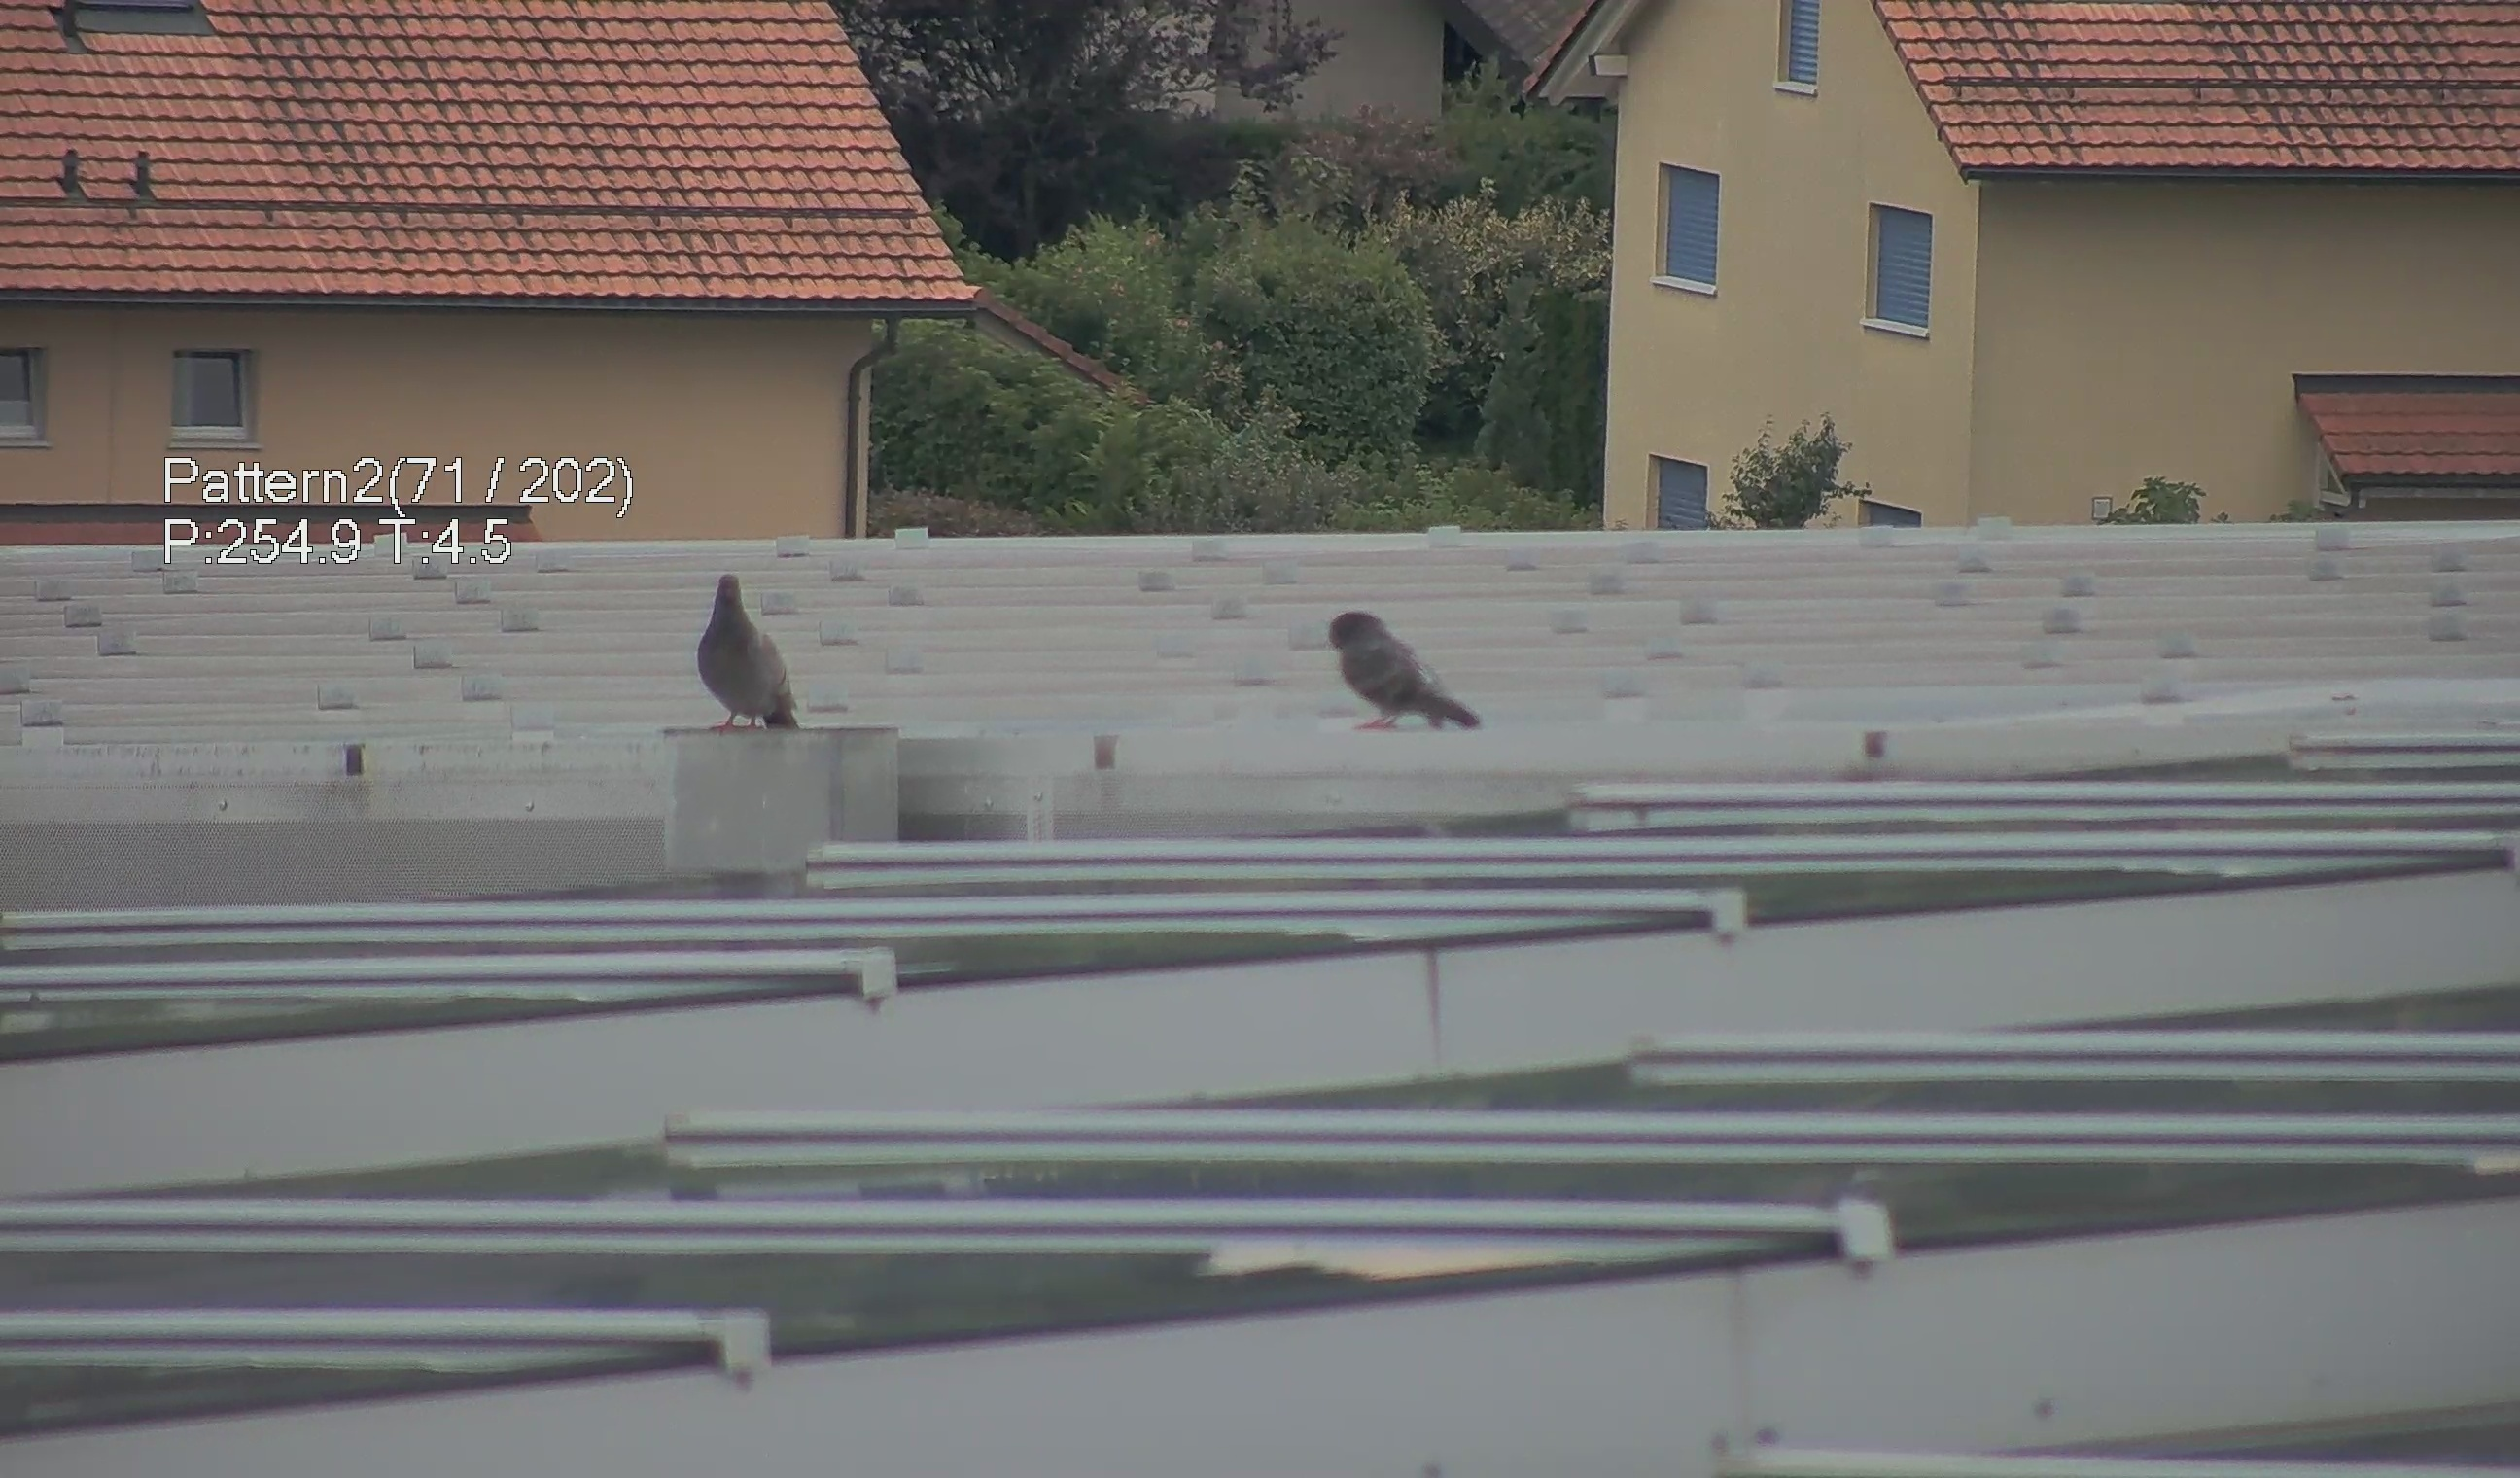Pigeon: (1314, 596, 1488, 739), (675, 560, 802, 743)
